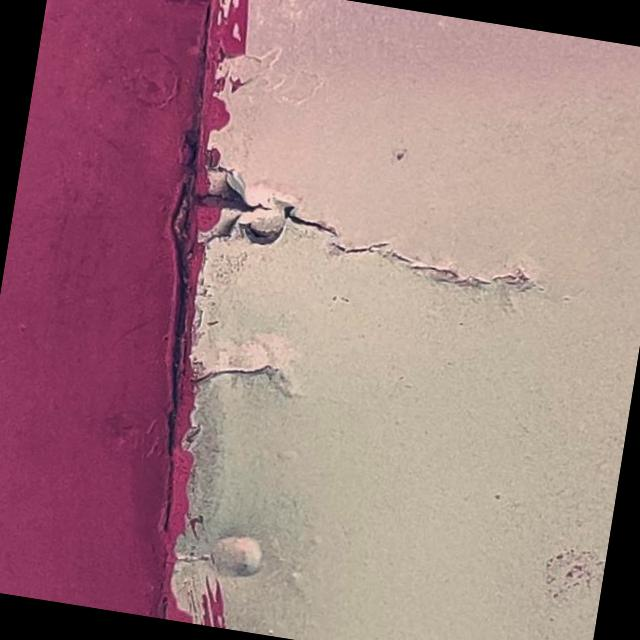crack: (166, 150, 566, 328), (163, 323, 293, 420)
